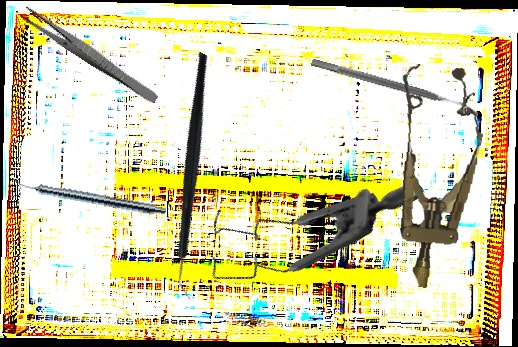Chopper: (99, 51, 292, 301)
Dressing Forceps: (18, 4, 162, 106)
Fixation Ring: (308, 48, 476, 119)
Handpiece: (12, 176, 168, 218)
Speculum: (182, 96, 427, 346), (377, 61, 490, 293)
